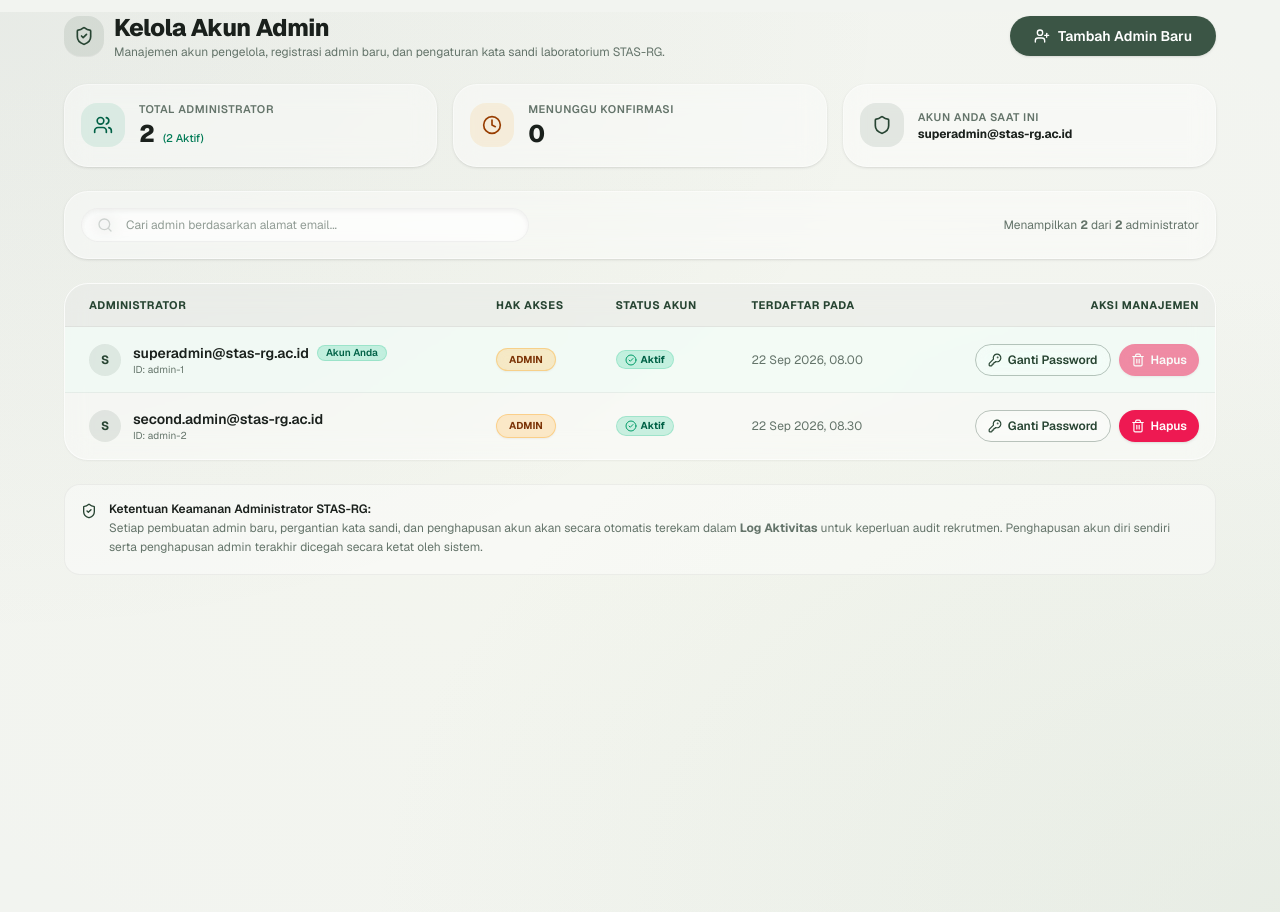
Test: app/admin/admins › filters admin list via search query
Expected: the text "second.admin@stas-rg.ac.id" is shown, [133,410,323,430]
Step 1. Type "second" into the field with placeholder "Cari admin berdasarkan alamat email..." → (305, 224), box [81,208,529,242]
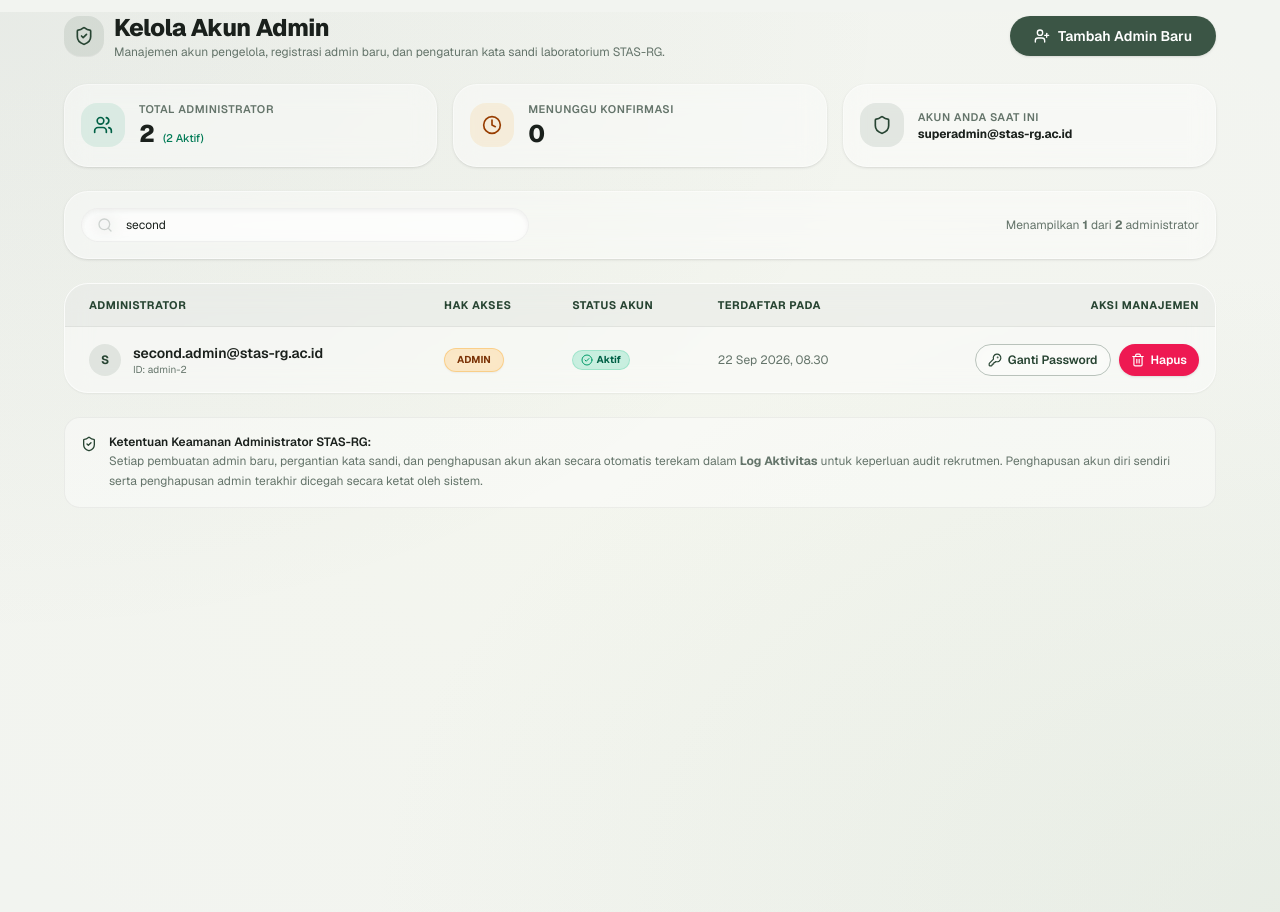
Expected: the text "second.admin@stas-rg.ac.id" is shown, [133,343,323,363]
Expected: the text "Menampilkan 1 dari 2 administrator" is shown, [1006,216,1199,232]
